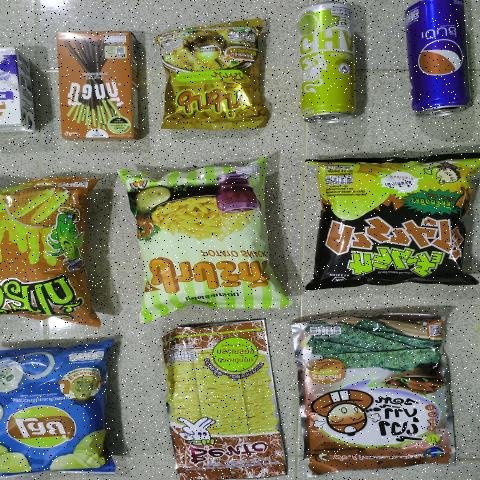bento_red: (173, 328, 282, 477)
karamujo: (302, 158, 475, 296)
lay_blue: (2, 347, 96, 469)
mama: (159, 26, 270, 129)
paprika: (140, 172, 264, 310)
pepsi_blue: (396, 0, 476, 118)
pokki: (61, 25, 131, 134)
singha_yellow: (297, 0, 367, 124)
taokaenoi: (306, 313, 448, 462)
twisco: (0, 179, 92, 320)
